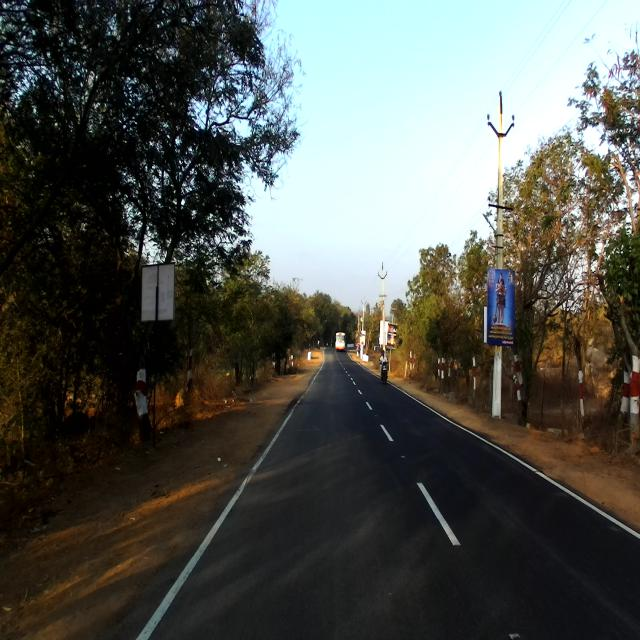electric pole ahead at: (482, 80, 521, 422)
